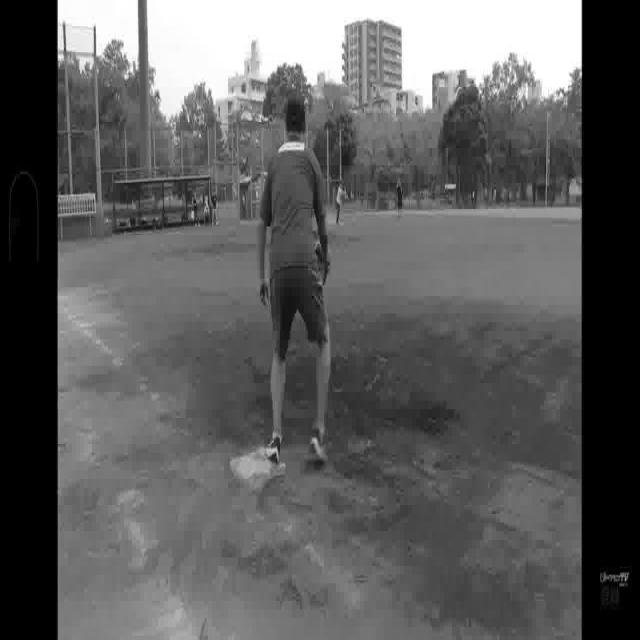base: (228, 450, 289, 493)
baseball_glove: (314, 237, 331, 291)
shoe: (309, 421, 329, 460), (267, 432, 285, 467)
